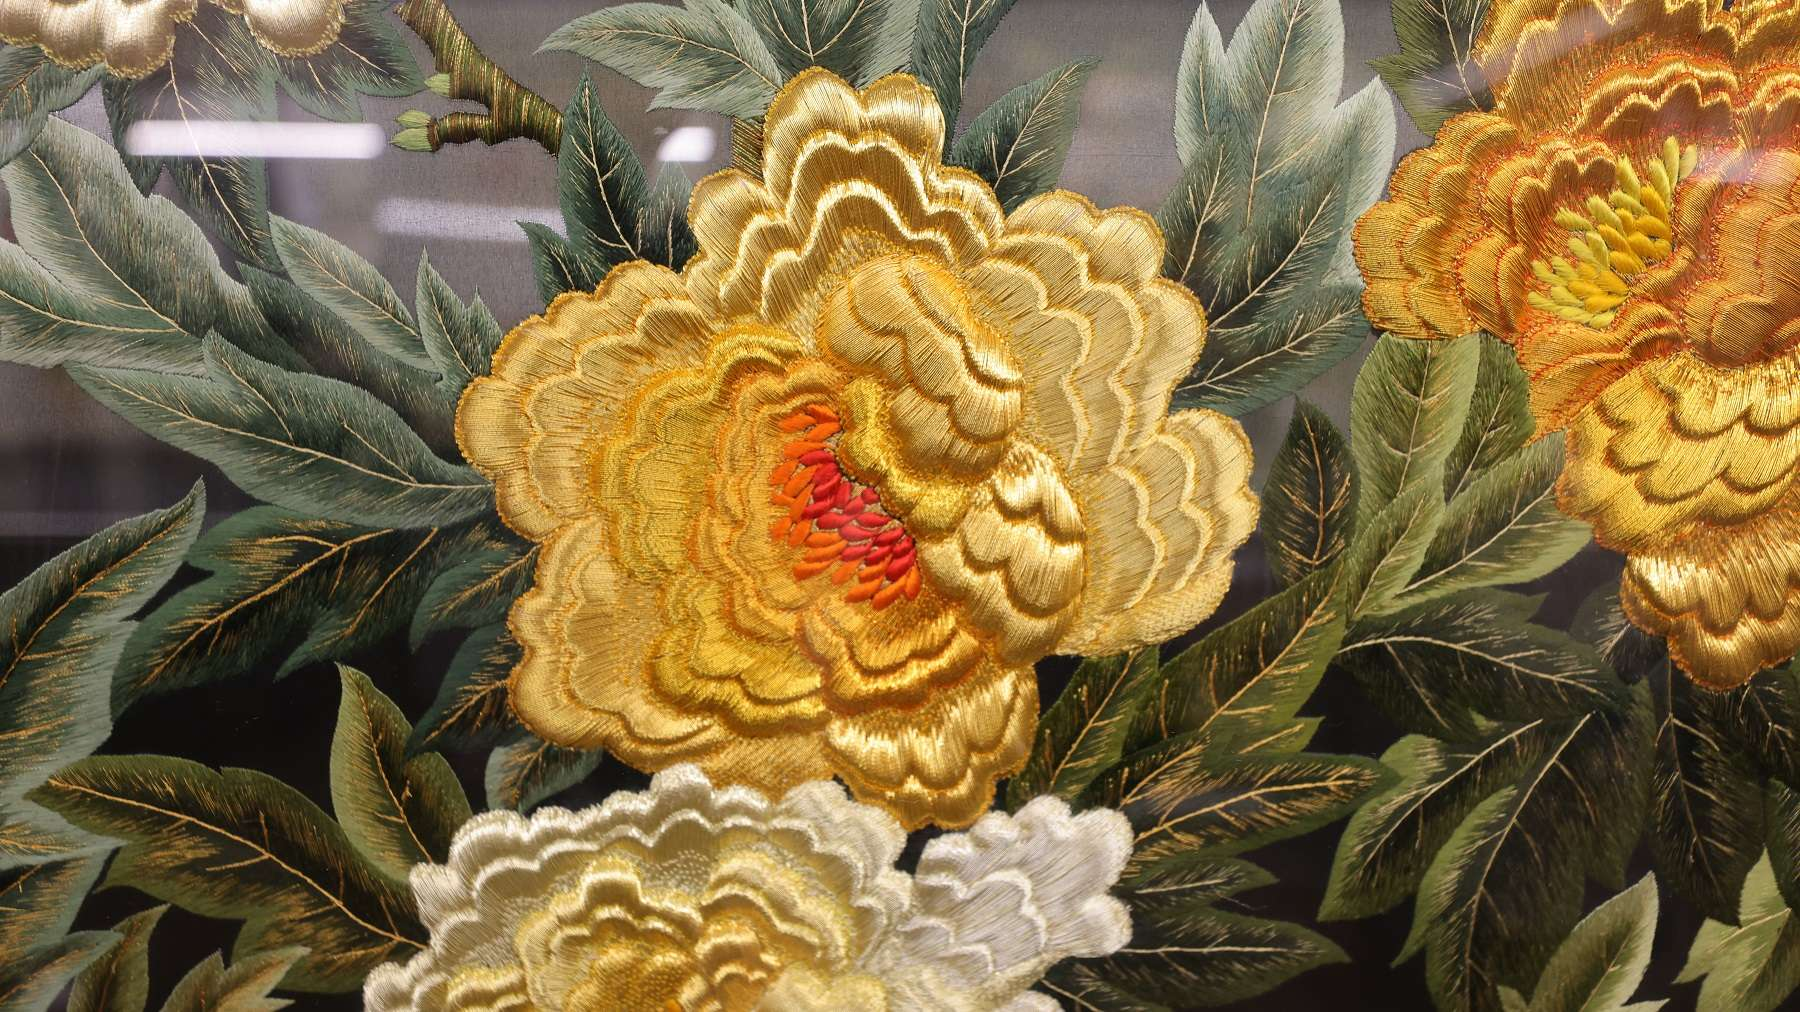flower: (452, 65, 1259, 833), (1352, 2, 1800, 689), (360, 761, 1134, 1012)
